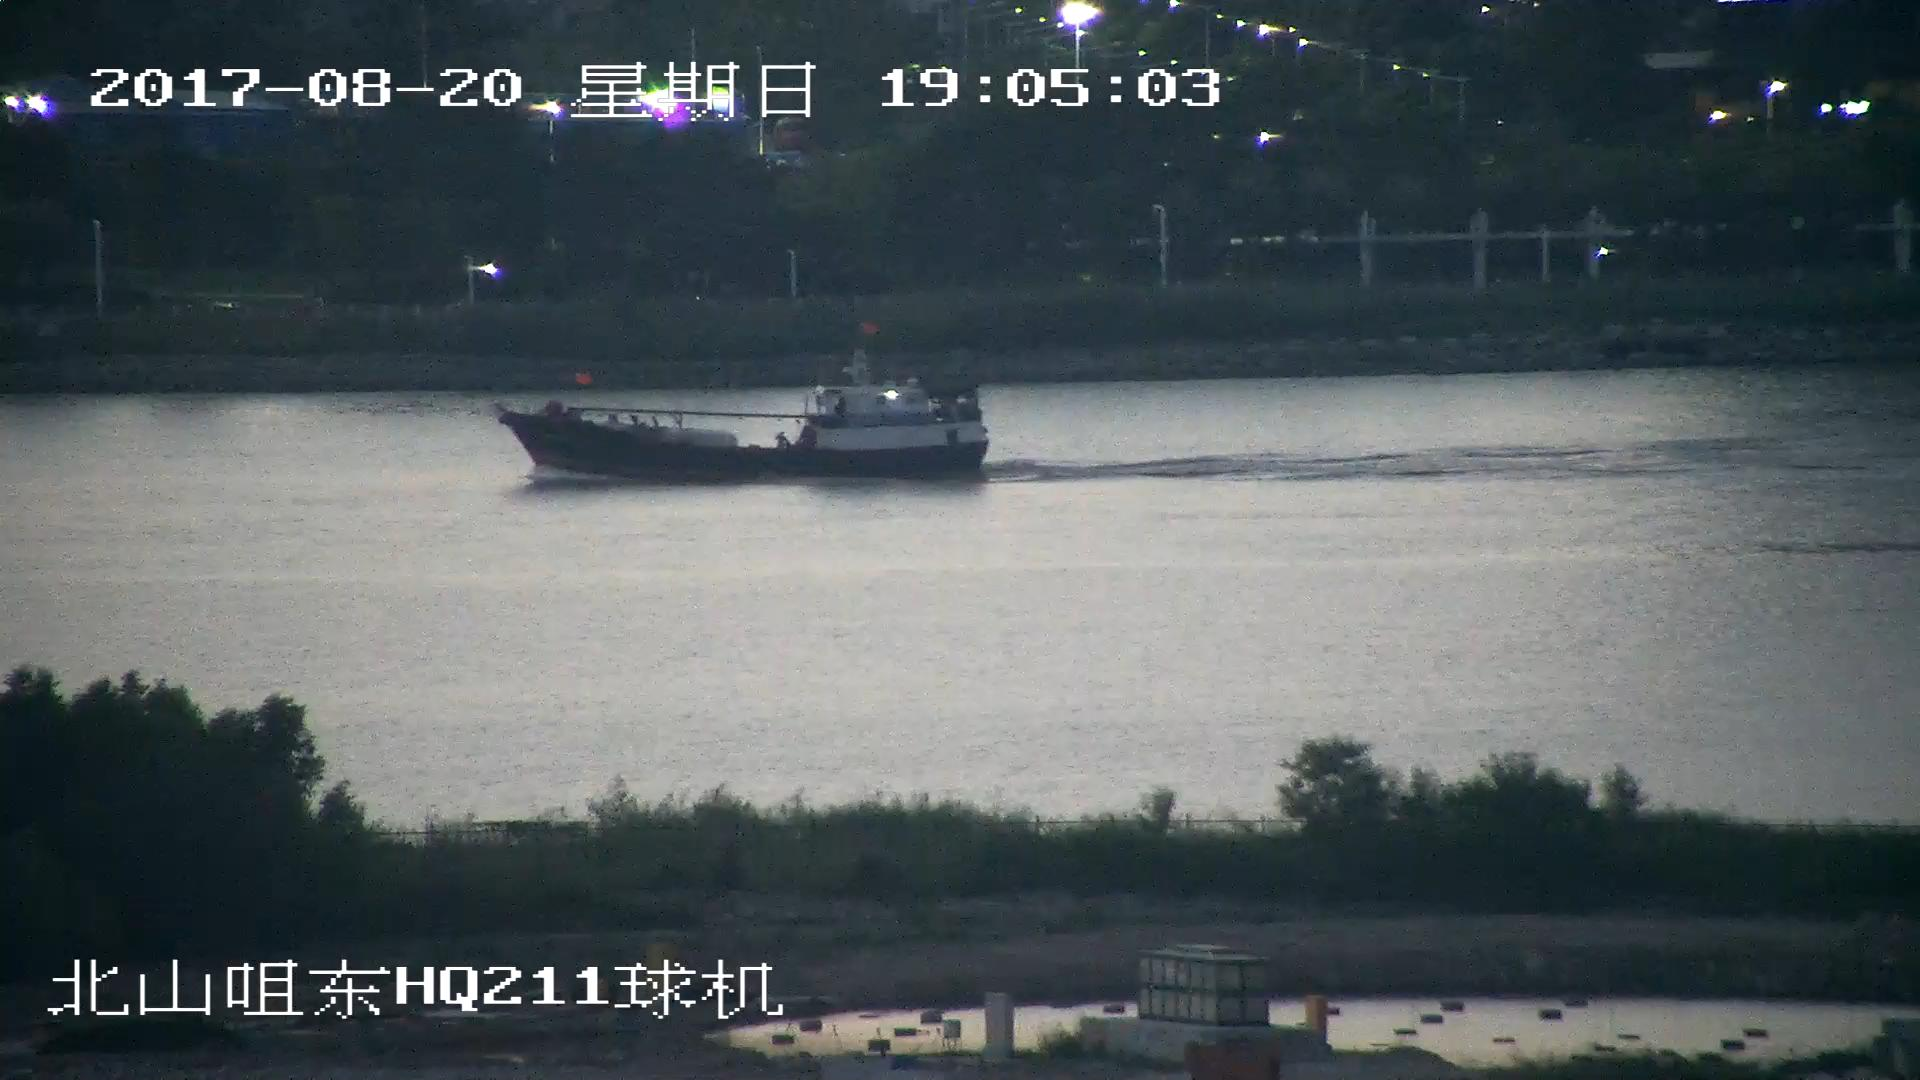fishing boat: (506, 343, 990, 483)
